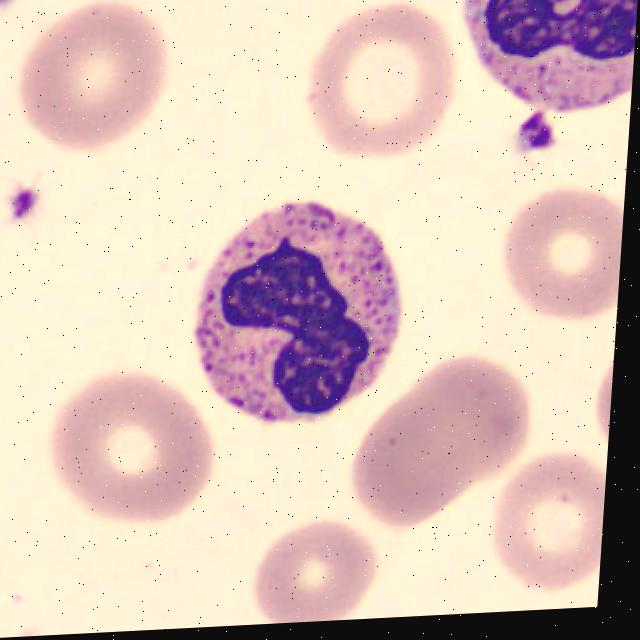neutrophil: (185, 193, 406, 427), (457, 0, 640, 113)
platelets: (500, 107, 561, 164)
rbc: (38, 363, 220, 537), (275, 0, 458, 163), (6, 2, 170, 157), (232, 488, 397, 626), (327, 393, 487, 534), (465, 446, 608, 601), (493, 178, 626, 328), (397, 347, 539, 483), (582, 348, 615, 439)
